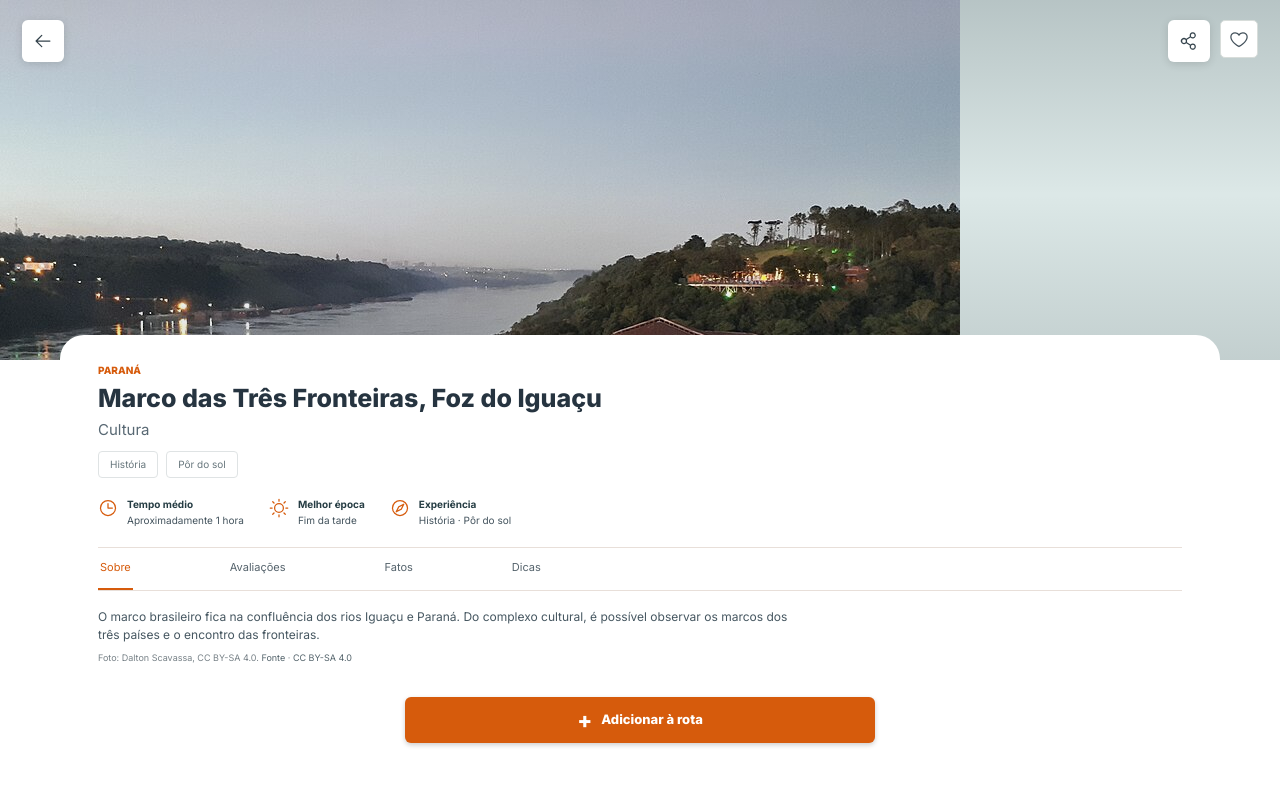
tela Detalhe do destino › adiciona o destino a um roteiro salvo neste dispositivo
The width and height of the screenshot is (1280, 800).
Click the button "+ Adicionar à rota": (640, 720) [405,696,875,742]
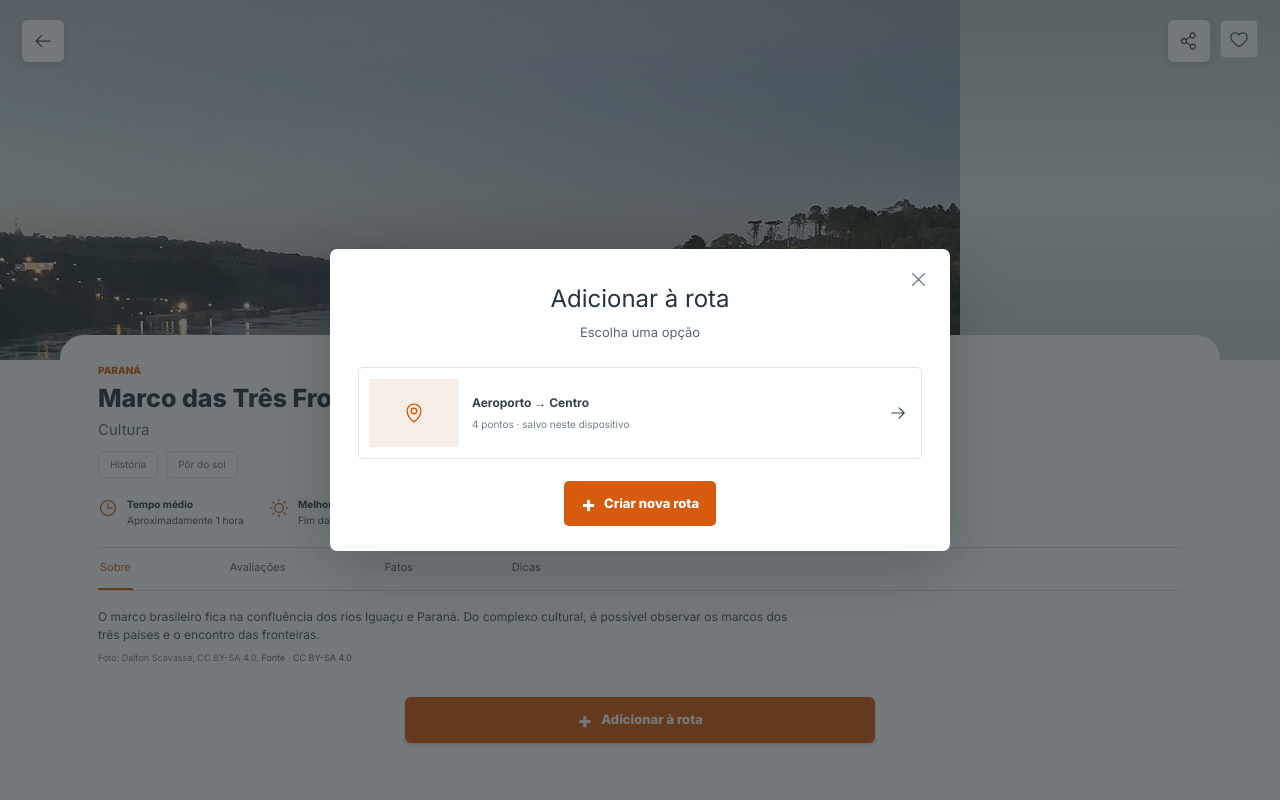
Click the button "Aeroporto → Centro 4 pontos · salvo neste dispositivo": (414, 413) [358,367,922,459]
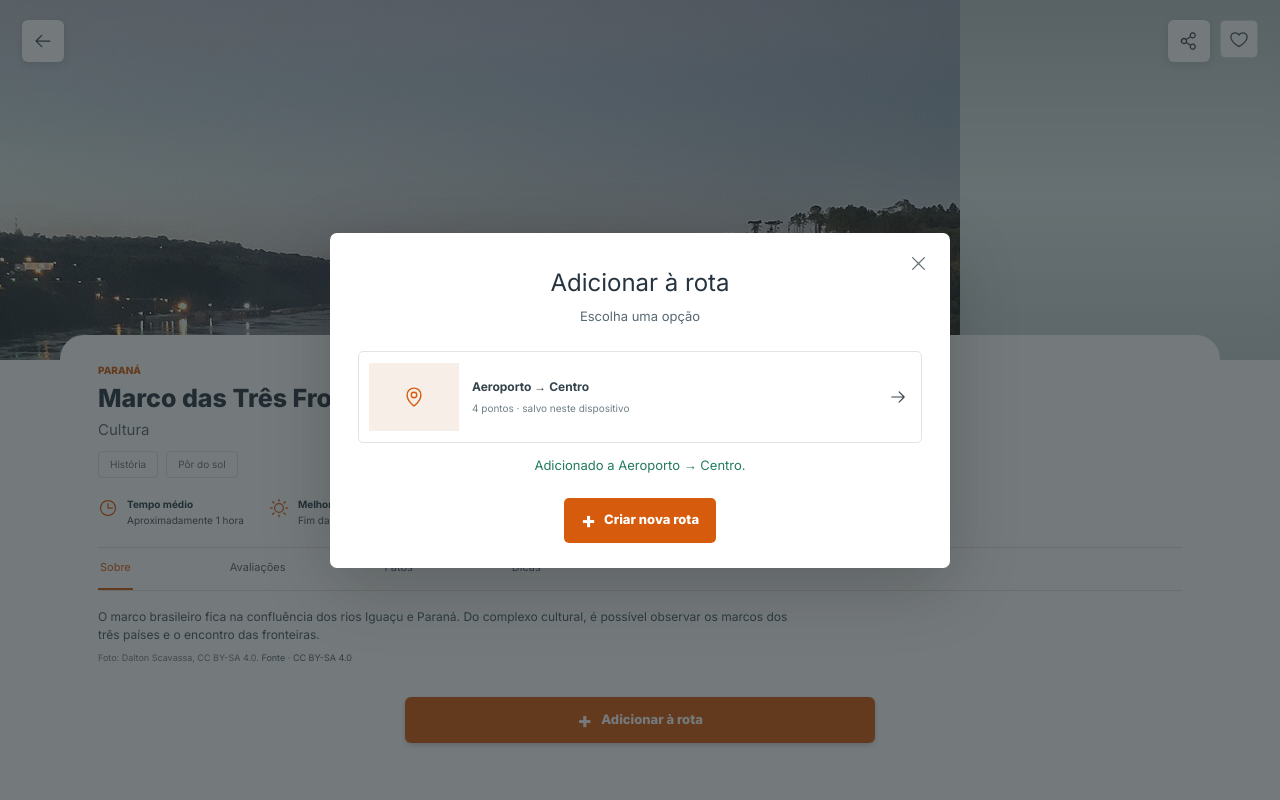
Expected: the text "Adicionado a Aeroporto → Centro." is shown, [534,457,746,473]
Click the button named "Fechar": (918, 264) [901,246,935,280]
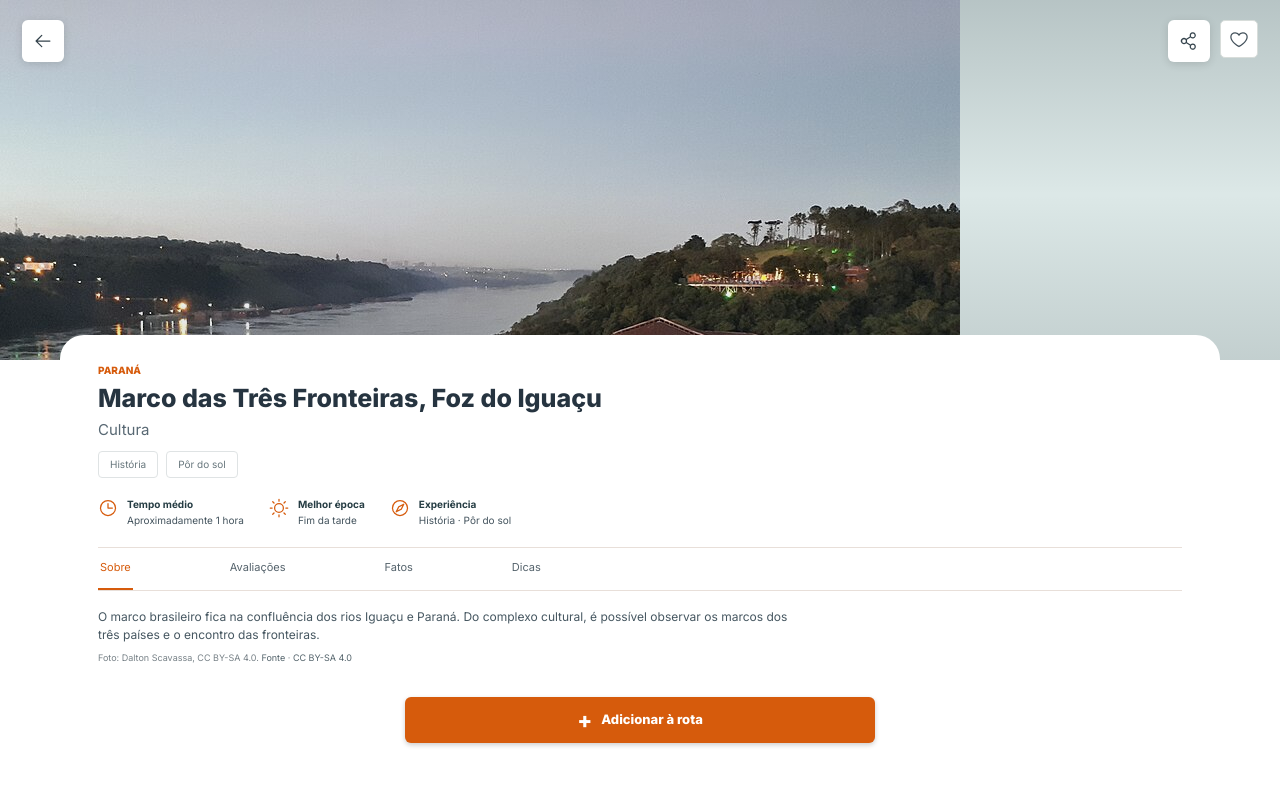
Expected: the dialog is gone
